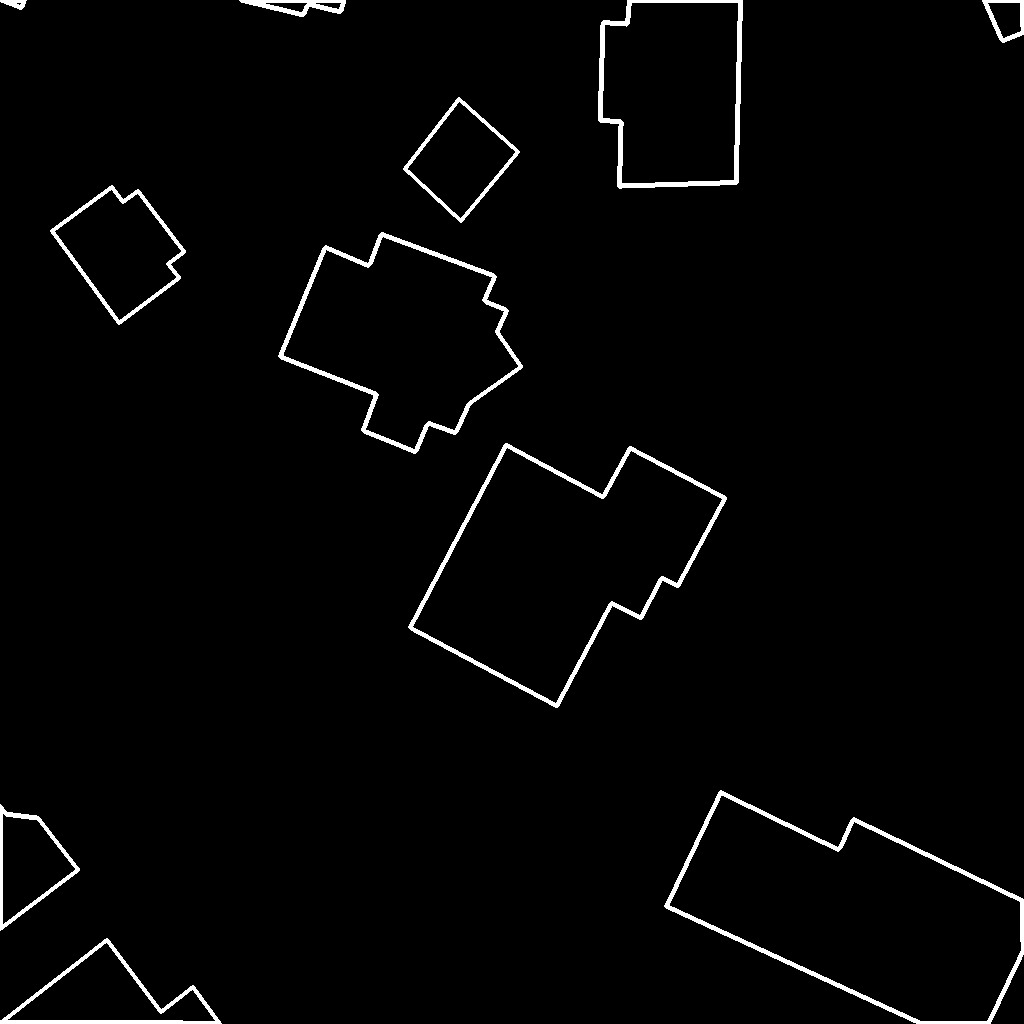building: (666, 792, 1024, 1024), (410, 445, 726, 707), (280, 234, 522, 453), (600, 0, 742, 187), (0, 940, 221, 1024), (52, 187, 185, 324), (405, 99, 519, 222), (0, 806, 79, 930), (239, 0, 345, 16), (984, 0, 1024, 42), (0, 0, 26, 9)
